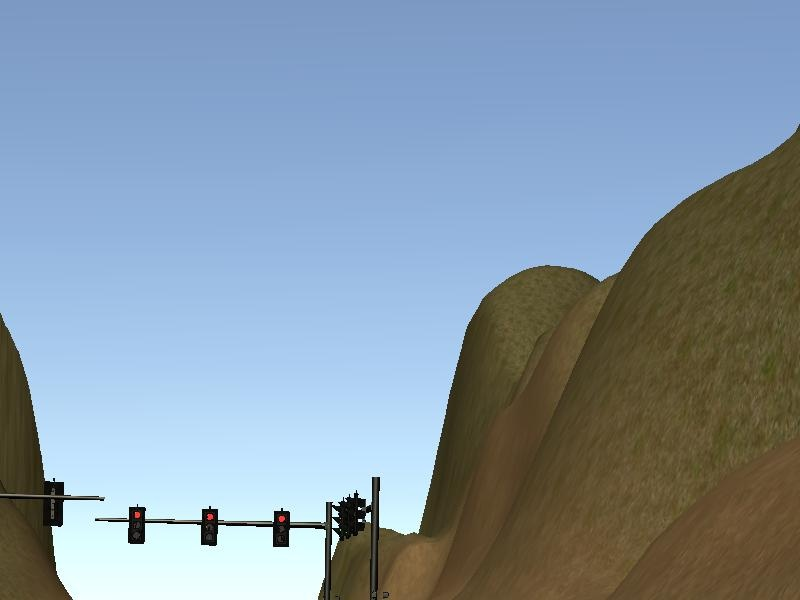traffic_light_red: (112, 505, 325, 549)
